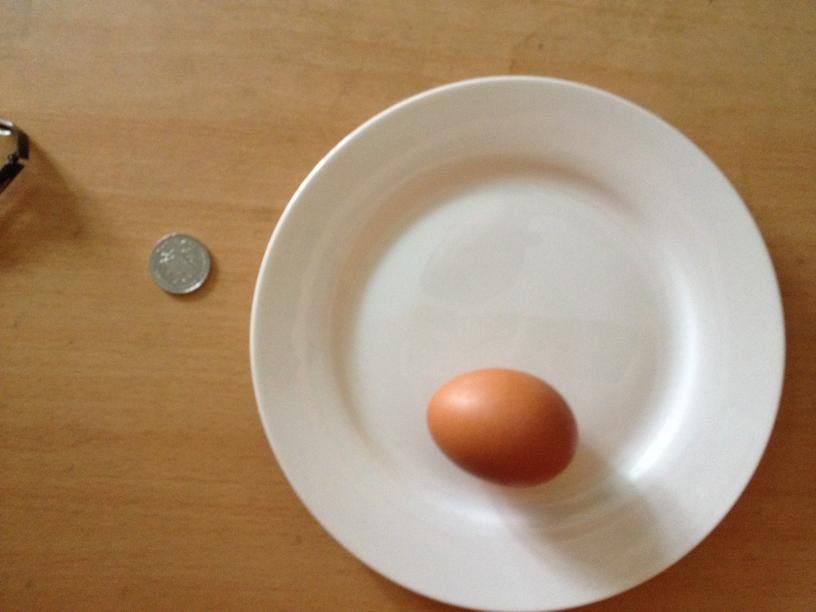coin: (146, 231, 214, 296)
egg: (422, 364, 577, 485)
